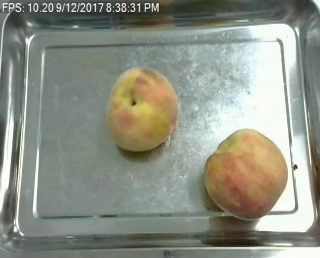Peach: (202, 127, 288, 218), (105, 67, 178, 151)
